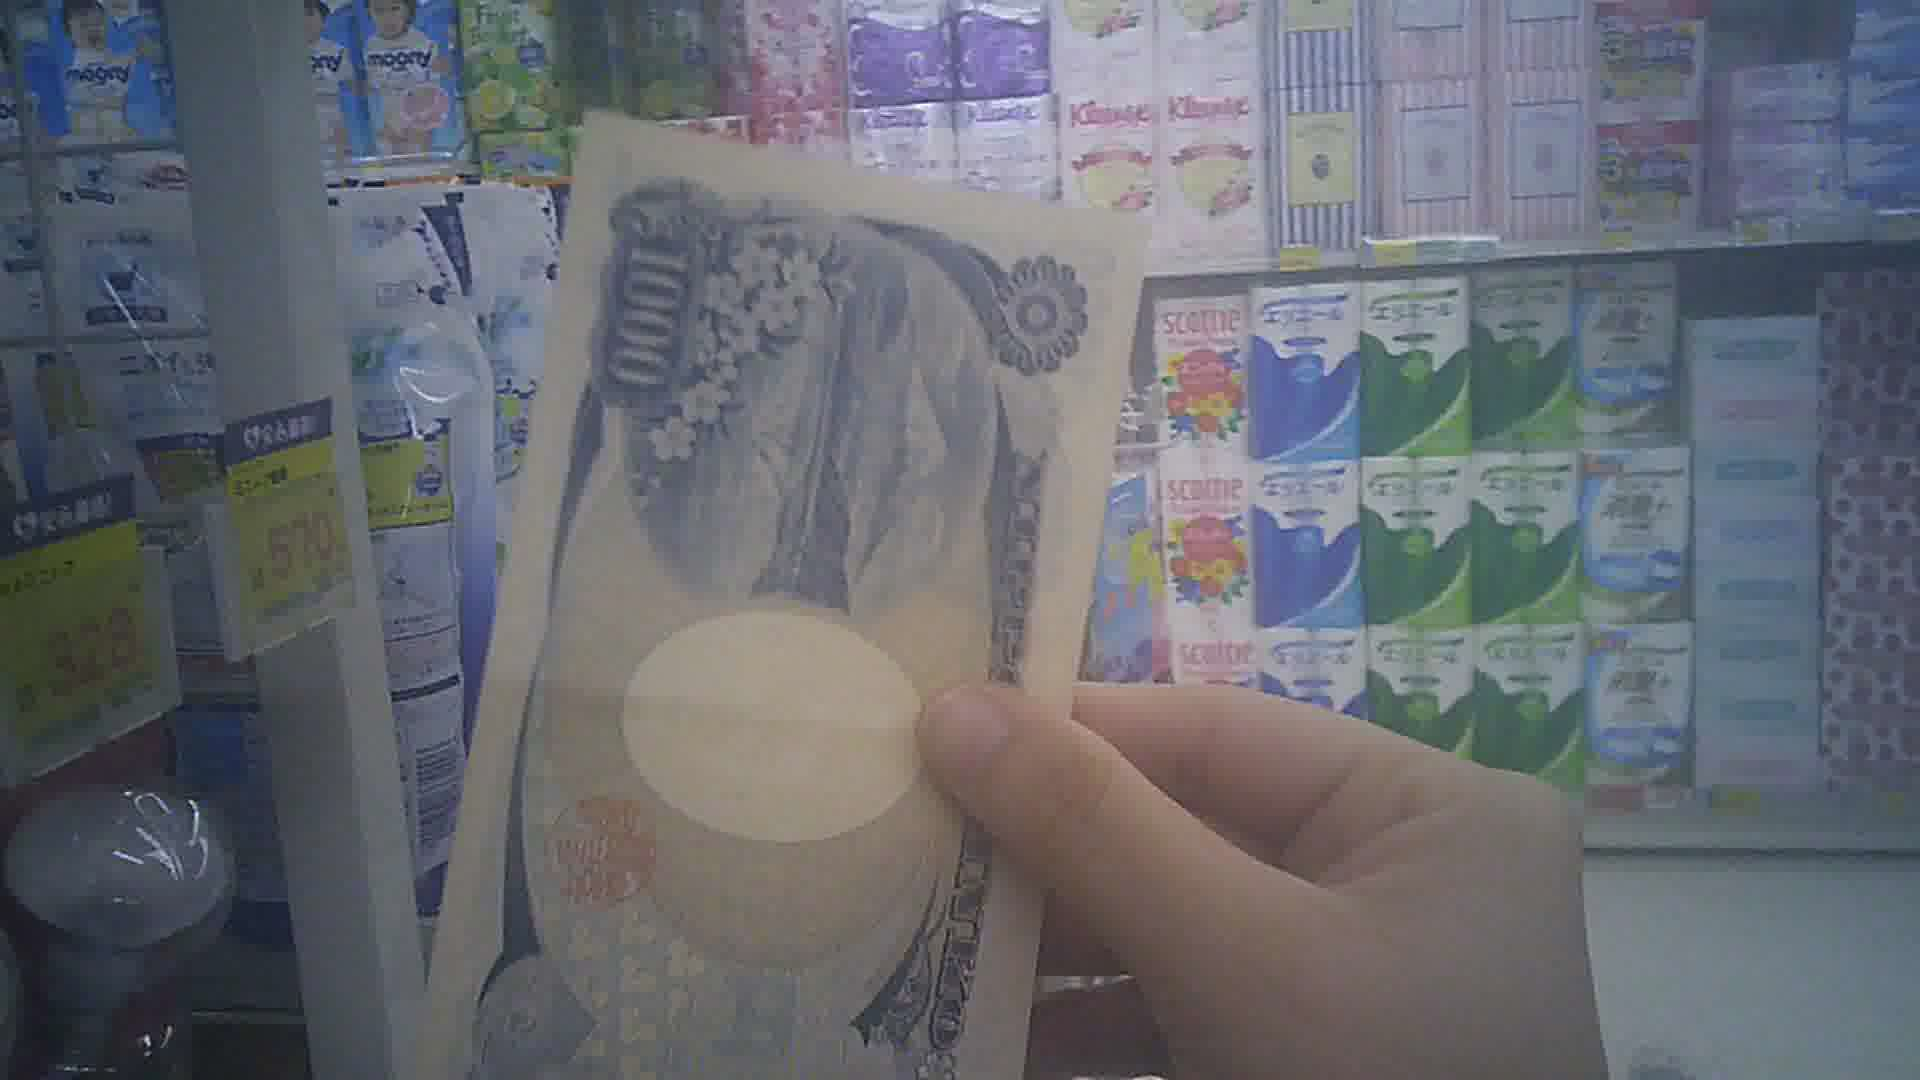1,000 Yen: (469, 109, 1143, 1079)
